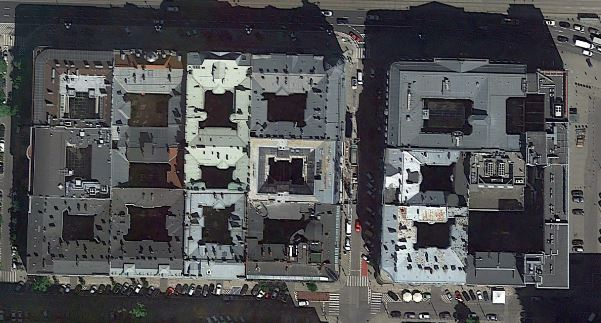block of flats: (22, 43, 352, 280), (373, 53, 575, 291)
